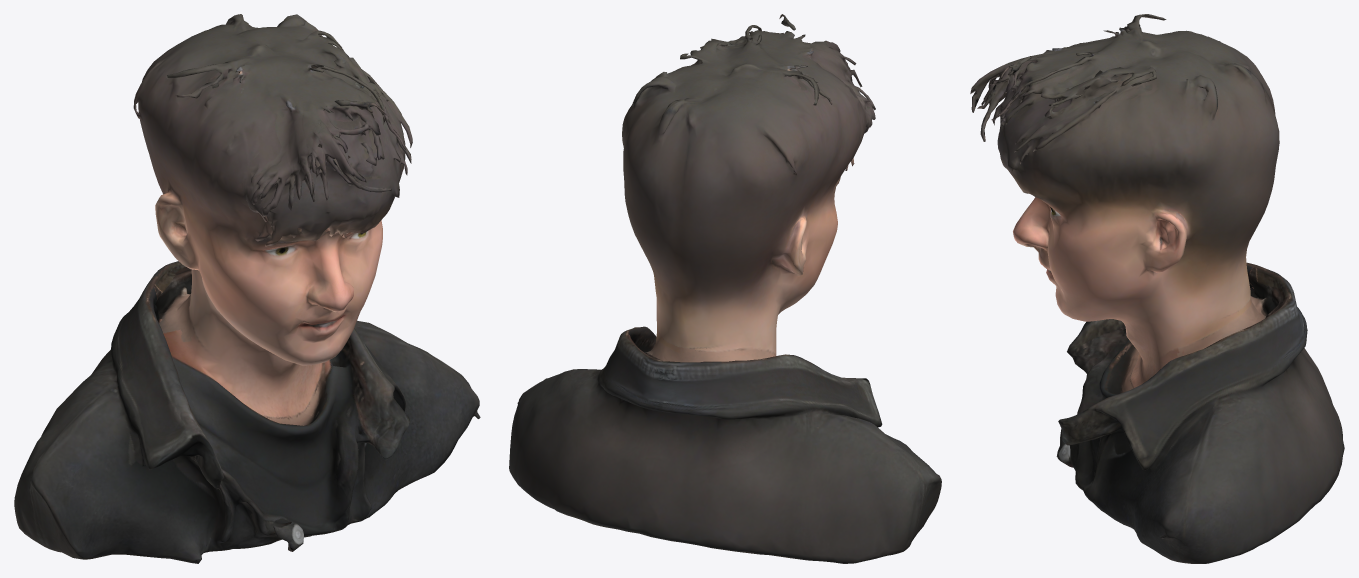
The model's file is meshy_019a4c70.glb.
3 renders of one model, left to right at view 1: azimuth 30°, elevation 25°; view 2: azimuth 150°, elevation 25°; view 3: azimuth 270°, elevation 25°, orthographic. The views are drawn at different scales.
Bounding box in the file's own units: 1.97 × 2 × 1.57.
Materials: 1 (1 with a texture image).
